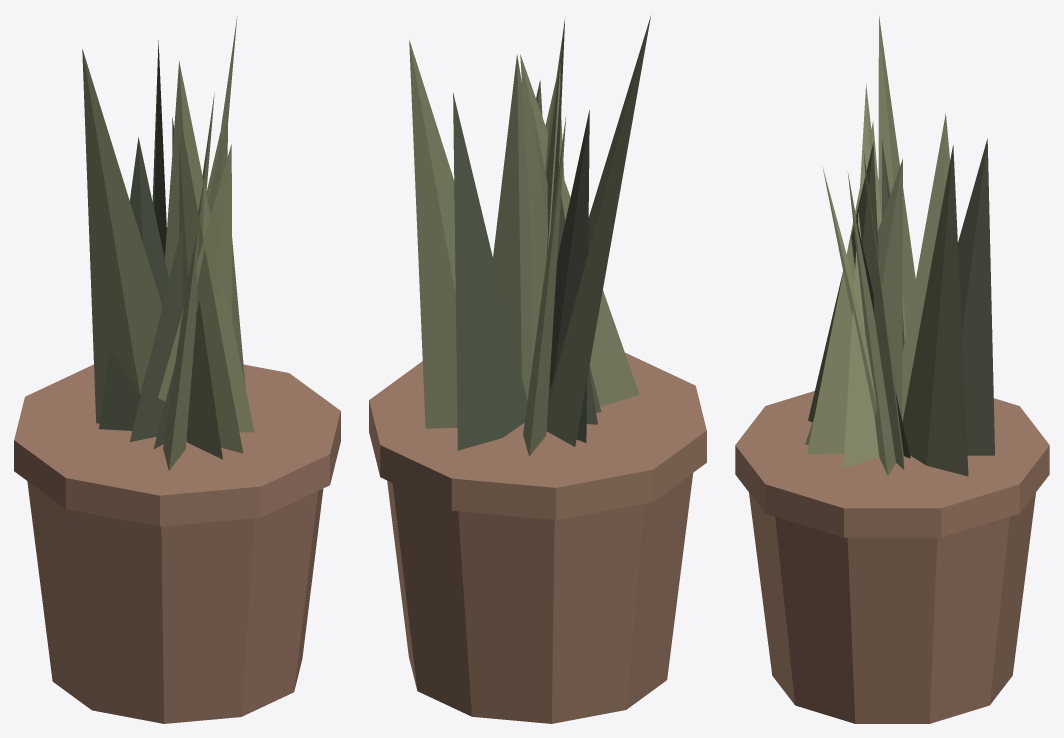
File: plant_stand.fbx
3 views of the same model, side by side, from view 1: azimuth 30°, elevation 25°; view 2: azimuth 150°, elevation 25°; view 3: azimuth 270°, elevation 25° (orthographic). The views are drawn at different scales.
Parts seen in each view (by area): view 1: plant_stand; view 2: plant_stand; view 3: plant_stand.
Boxes of the visible parts, bbox=[...] form: plant_stand: bbox=[14, 16, 340, 723]; plant_stand: bbox=[369, 16, 706, 723]; plant_stand: bbox=[735, 16, 1049, 723].
Size of the model in its own units: 0.3234 by 0.34 by 0.7332.
